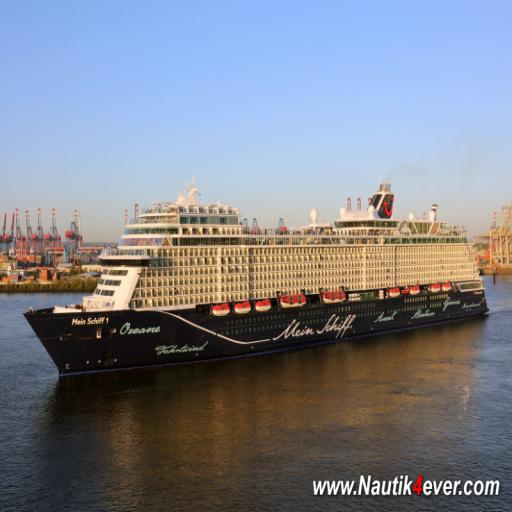cruises: (25, 175, 497, 378)
